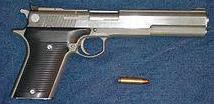gun: (1, 1, 214, 104)
